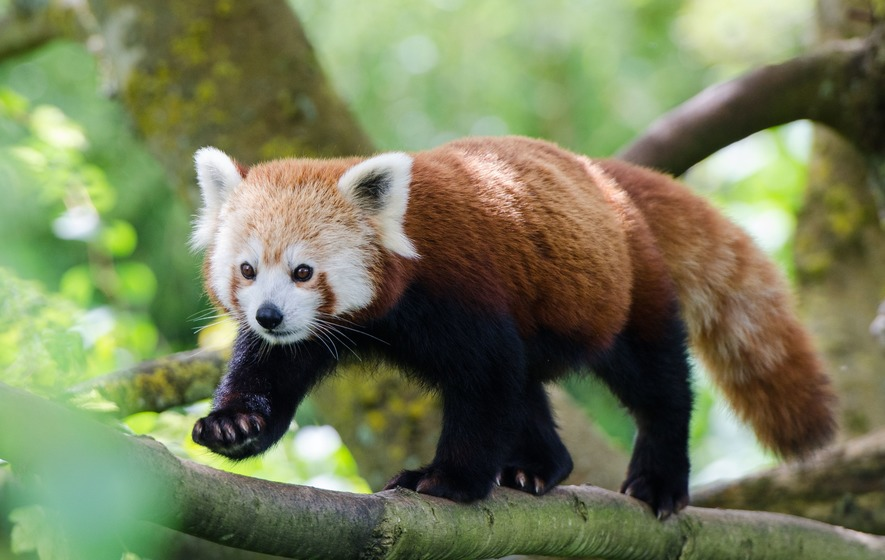red_panda: (180, 134, 836, 517)
